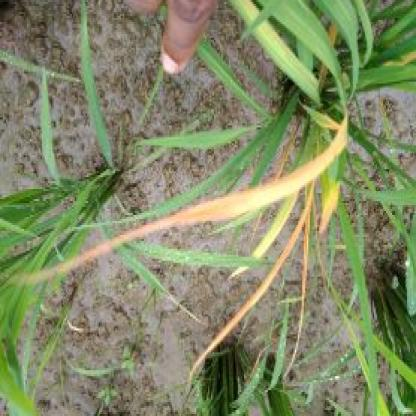Tungro: (97, 125, 348, 241)
